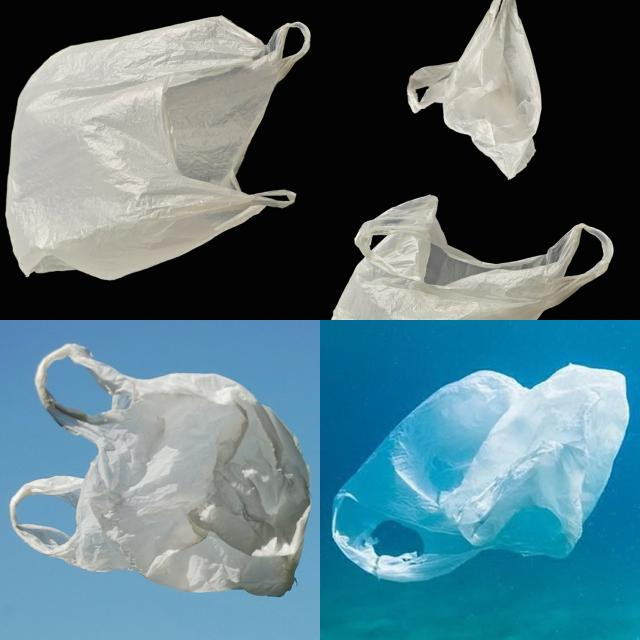Single-layer Plastic: (6, 16, 310, 279), (10, 344, 310, 596), (332, 364, 629, 582), (332, 195, 614, 319), (408, 0, 541, 179)
